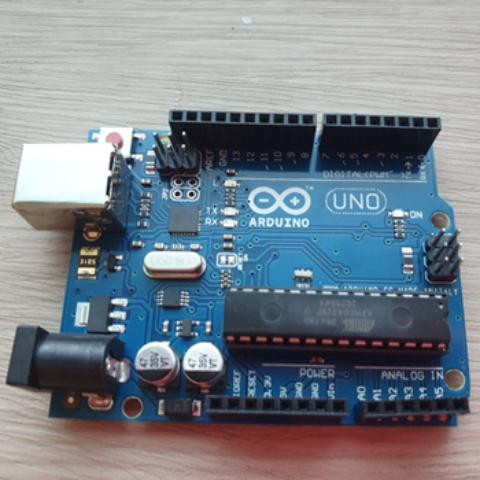Arduino-Uno: (0, 104, 472, 432)
